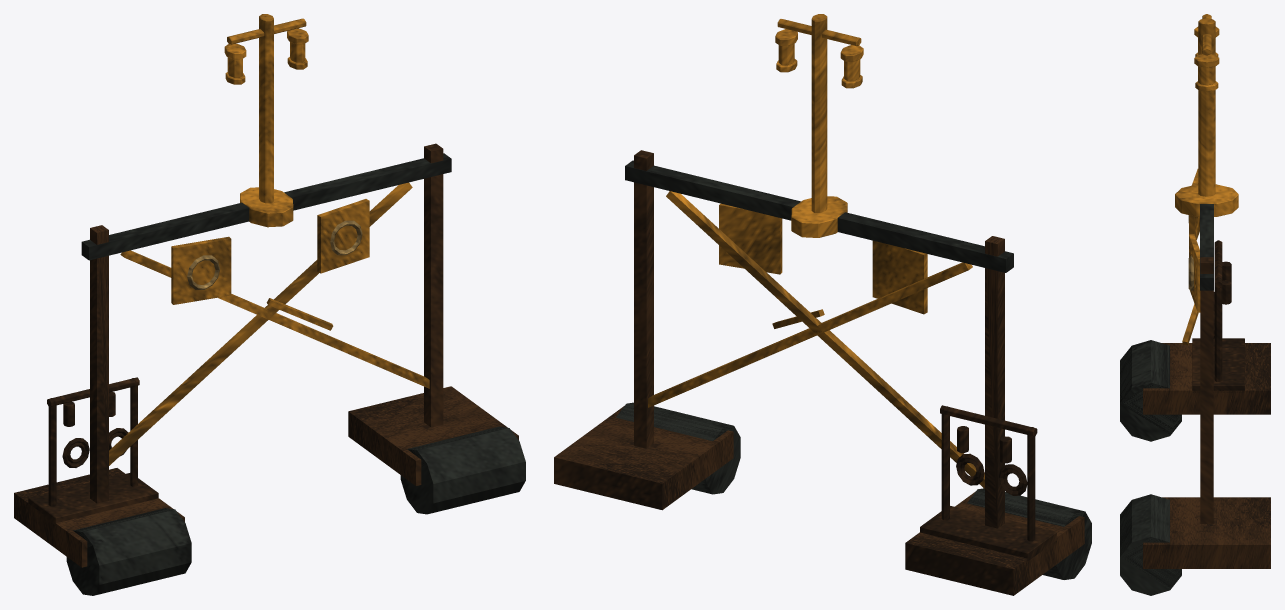
Rendered from finish-line-rig.glb.
3 views of the same model, side by side, from view 1: azimuth 30°, elevation 25°; view 2: azimuth 150°, elevation 25°; view 3: azimuth 270°, elevation 25° (orthographic). The views are drawn at different scales.
Parts seen in each view (by area): view 1: finish-line-rig; view 2: finish-line-rig; view 3: finish-line-rig.
Boxes of the visible parts, x1,y1,x2,y2 form: finish-line-rig: [14, 14, 525, 595]; finish-line-rig: [554, 14, 1091, 595]; finish-line-rig: [1120, 14, 1270, 595].
Bounding box in the file's own units: 6.15 × 6.77 × 1.94.
Materials: 1 (1 with a texture image).
